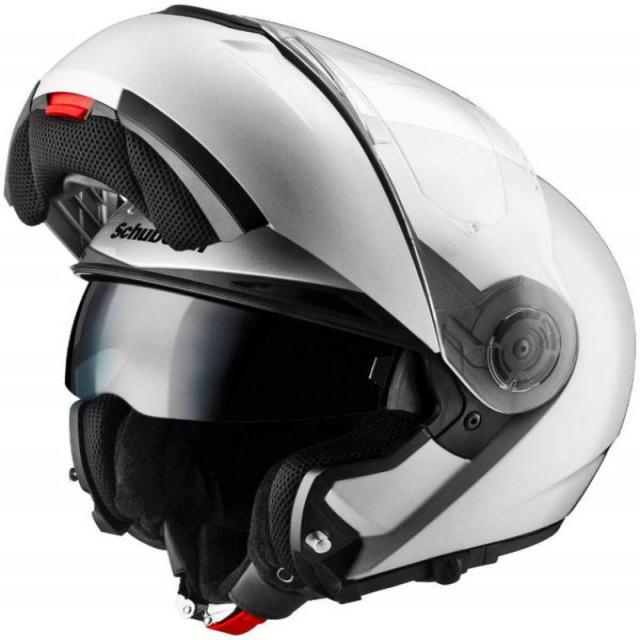Helmet: (2, 3, 636, 640)
